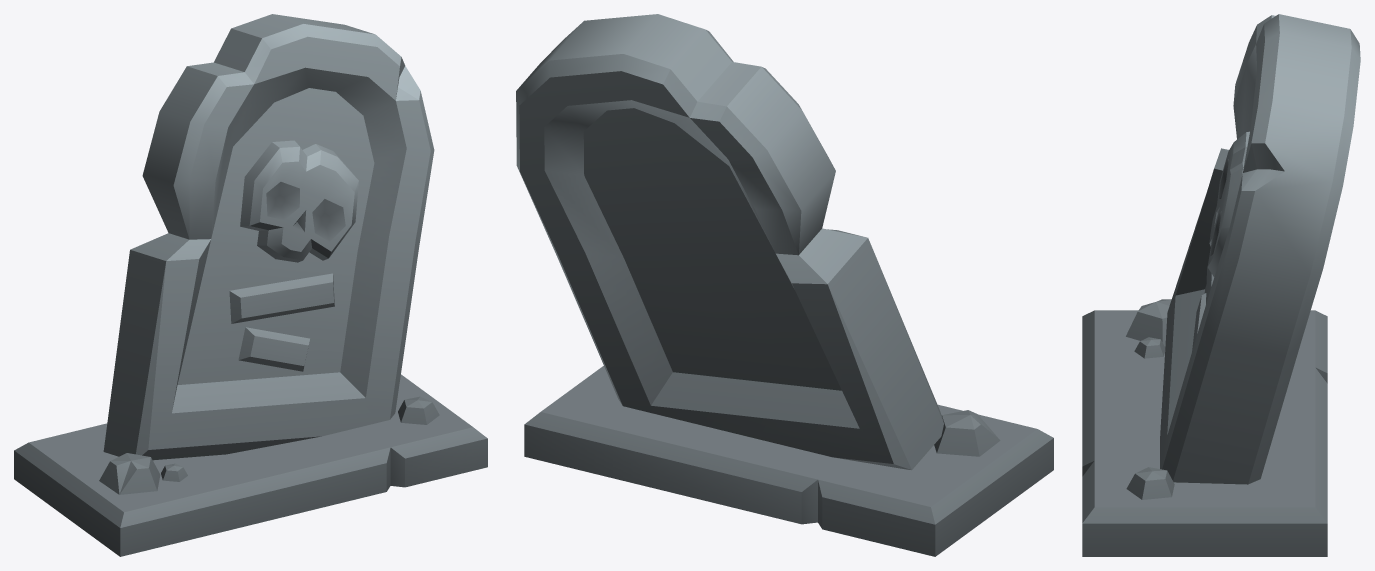
The model's file is grave.glb.
The picture shows the model from 3 angles, left to right: view 1: azimuth 30°, elevation 25°; view 2: azimuth 150°, elevation 25°; view 3: azimuth 270°, elevation 25°; orthographic projection. The views are drawn at different scales.
Visible parts, largest first — view 1: grave_A_destroyed; view 2: grave_A_destroyed; view 3: grave_A_destroyed.
Part boxes in pixels (x1,y1,x2,y2): grave_A_destroyed: (14, 14, 487, 556); grave_A_destroyed: (516, 14, 1053, 556); grave_A_destroyed: (1082, 14, 1360, 556).
Bounding box in the file's own units: 2.08 × 2.11 × 1.14.
Materials: 1 (1 with a texture image).
